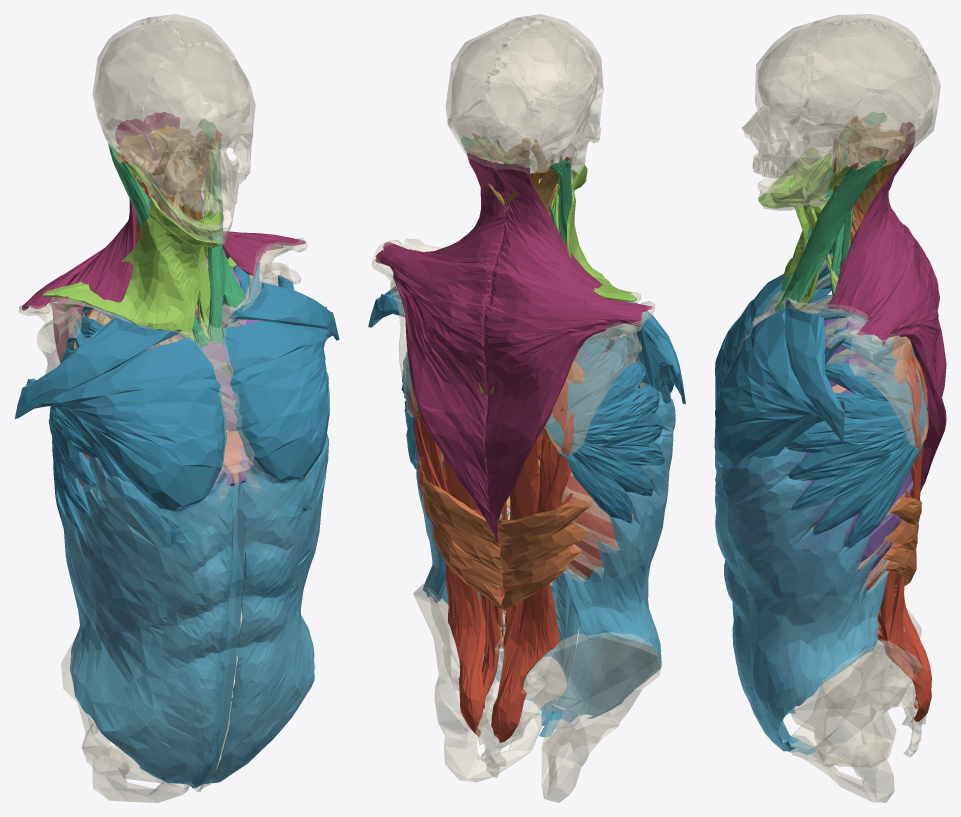
Rendered from trunkmuscles.glb.
3 renders of one model, left to right at view 1: azimuth 30°, elevation 25°; view 2: azimuth 150°, elevation 25°; view 3: azimuth 270°, elevation 25°, orthographic. The views are drawn at different scales.
Parts seen in each view (by area): view 1: abdominal, chest, skeleton, hyoidm, trapezius, neck, splenius, intercostal, deepback, diaphragm; view 2: skeleton, trapezius, abdominal, chest, erector, rhomboid, diaphragm, hyoidm, splenius, neck; view 3: skeleton, chest, abdominal, trapezius, erector, neck, hyoidm, rhomboid, intercostal, splenius, diaphragm.
Boxes of the visible parts, x1=… form: abdominal: x1=63, y1=433, x2=328, y2=788; chest: x1=15, y1=262, x2=339, y2=546; skeleton: x1=19, y1=14, x2=315, y2=802; hyoidm: x1=42, y1=136, x2=237, y2=340; trapezius: x1=22, y1=112, x2=305, y2=362; neck: x1=108, y1=119, x2=246, y2=348; splenius: x1=114, y1=128, x2=215, y2=233; intercostal: x1=178, y1=256, x2=309, y2=486; deepback: x1=95, y1=125, x2=205, y2=349; diaphragm: x1=78, y1=431, x2=244, y2=541; skeleton: x1=371, y1=14, x2=661, y2=802; trapezius: x1=375, y1=153, x2=652, y2=542; abdominal: x1=416, y1=390, x2=675, y2=737; chest: x1=368, y1=286, x2=685, y2=524; erector: x1=410, y1=133, x2=574, y2=742; rhomboid: x1=415, y1=185, x2=592, y2=610; diaphragm: x1=441, y1=436, x2=633, y2=579; hyoidm: x1=474, y1=136, x2=637, y2=301; splenius: x1=468, y1=138, x2=559, y2=395; neck: x1=461, y1=136, x2=572, y2=245; skeleton: x1=722, y1=14, x2=940, y2=802; chest: x1=714, y1=249, x2=926, y2=552; abdominal: x1=715, y1=446, x2=887, y2=754; trapezius: x1=827, y1=121, x2=946, y2=491; erector: x1=848, y1=116, x2=931, y2=721; neck: x1=774, y1=112, x2=887, y2=311; hyoidm: x1=758, y1=121, x2=894, y2=336; rhomboid: x1=844, y1=199, x2=928, y2=593; intercostal: x1=765, y1=305, x2=913, y2=585; splenius: x1=832, y1=116, x2=899, y2=270; diaphragm: x1=788, y1=384, x2=889, y2=590.
Size of the model in its own units: 0.3881 by 0.885 by 0.2439.
